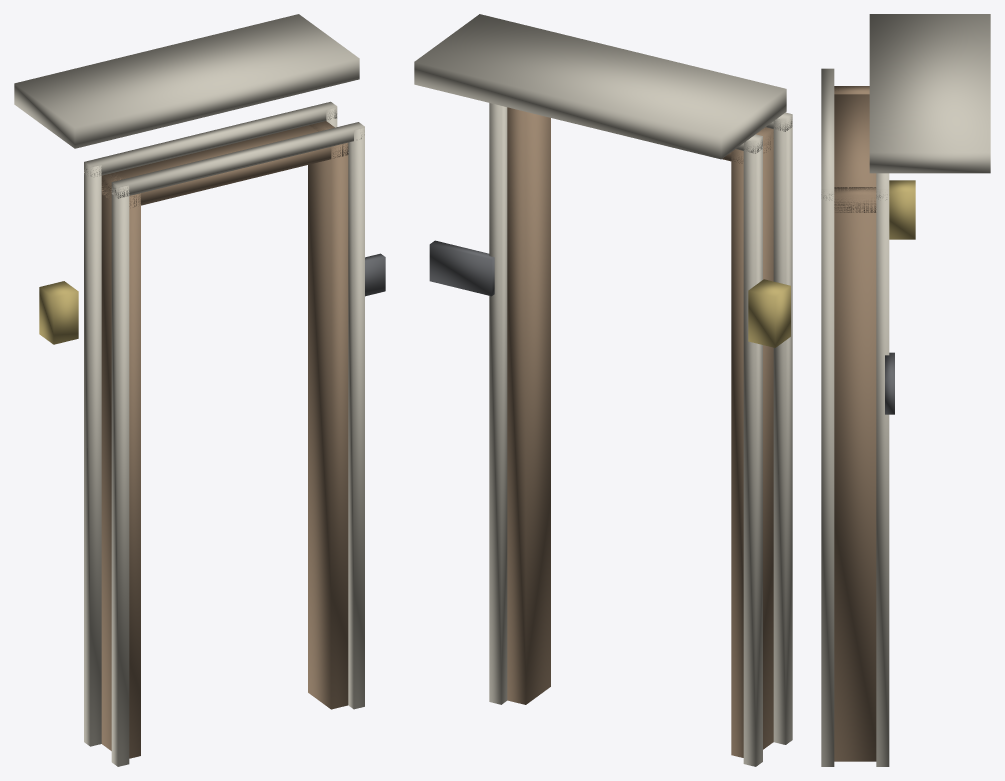
Rendered from doorway_motel_w76_h210_d16.glb.
3 views of the same model, side by side, from view 1: azimuth 30°, elevation 25°; view 2: azimuth 150°, elevation 25°; view 3: azimuth 270°, elevation 25° (orthographic). The views are drawn at different scales.
Parts seen in each view (by area): view 1: world; view 2: world; view 3: world.
Boxes of the visible parts, left/top/right/bottom form: world: left=14, top=14, right=385, bottom=766; world: left=414, top=14, right=792, bottom=766; world: left=821, top=14, right=990, bottom=766.
Bounding box in the file's own units: 1.32 × 2.39 × 0.5882.
